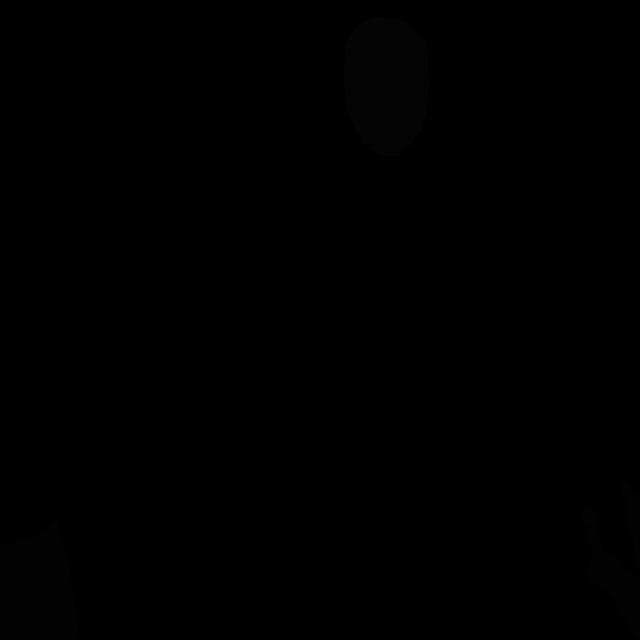cardboard: (0, 515, 79, 640), (581, 481, 640, 640)
soft_plastic: (343, 17, 429, 156)
